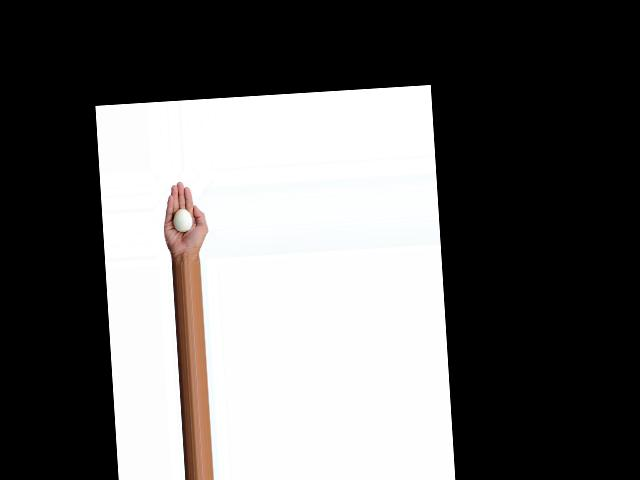egg: (172, 207, 192, 232)
